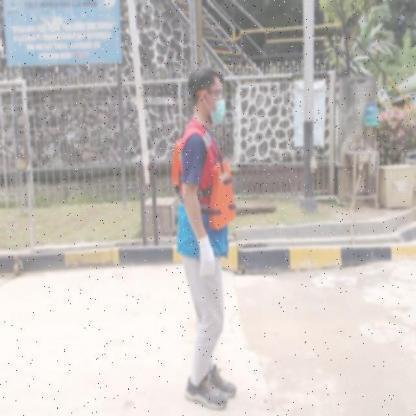boots: (184, 373, 230, 410), (205, 364, 238, 400)
gloves: (195, 235, 217, 280)
goggles: (202, 87, 226, 100)
mask: (211, 99, 226, 128)
vest: (171, 136, 238, 231)
